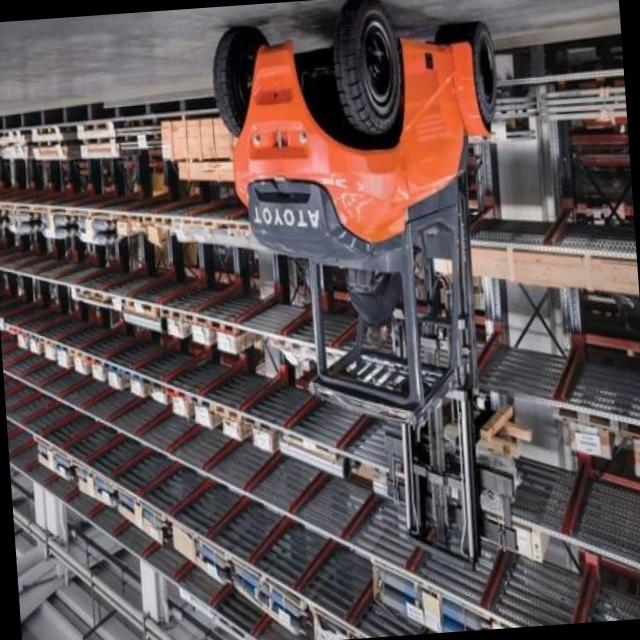forklift: (196, 0, 507, 597)
